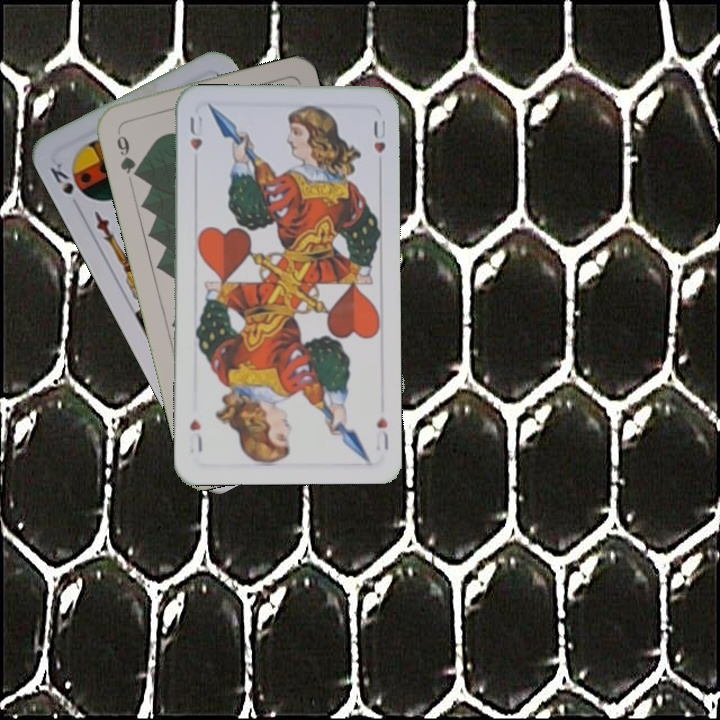G9: (112, 124, 142, 181)
HU: (186, 112, 205, 153), (372, 412, 391, 452)
SK: (45, 158, 88, 200)
